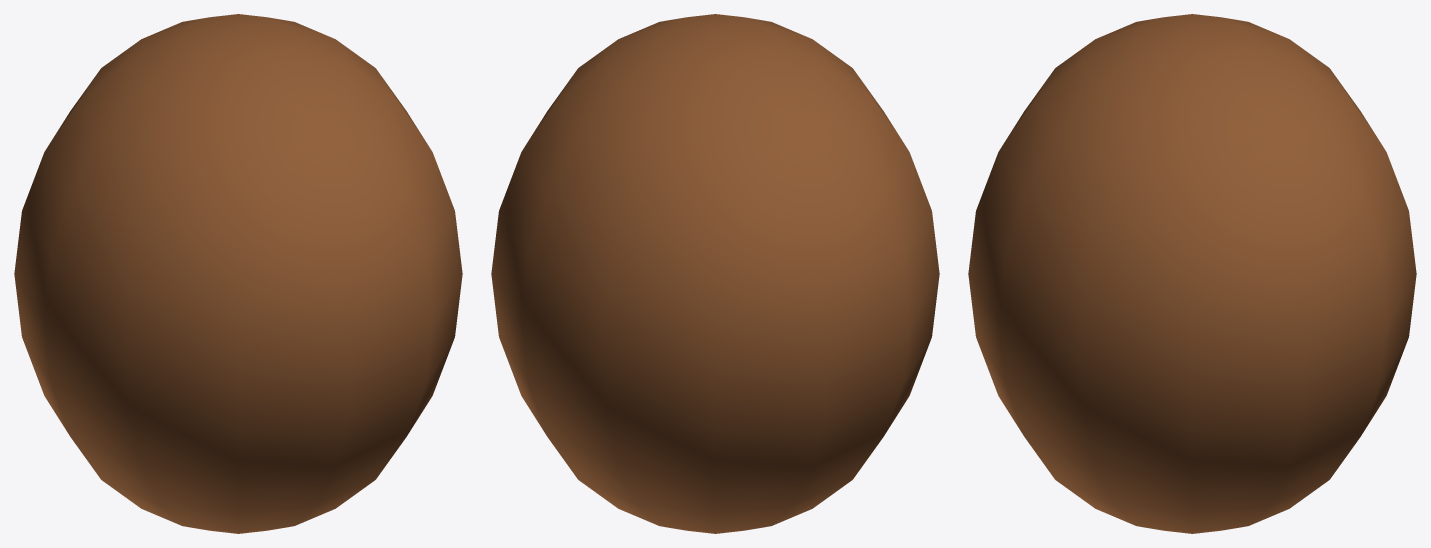
File: Escorpiodra_stage2.obj
3 renders of one model, left to right at view 1: azimuth 30°, elevation 25°; view 2: azimuth 150°, elevation 25°; view 3: azimuth 270°, elevation 25°, orthographic.
Size of the model in its own units: 2 by 2.4 by 2.
